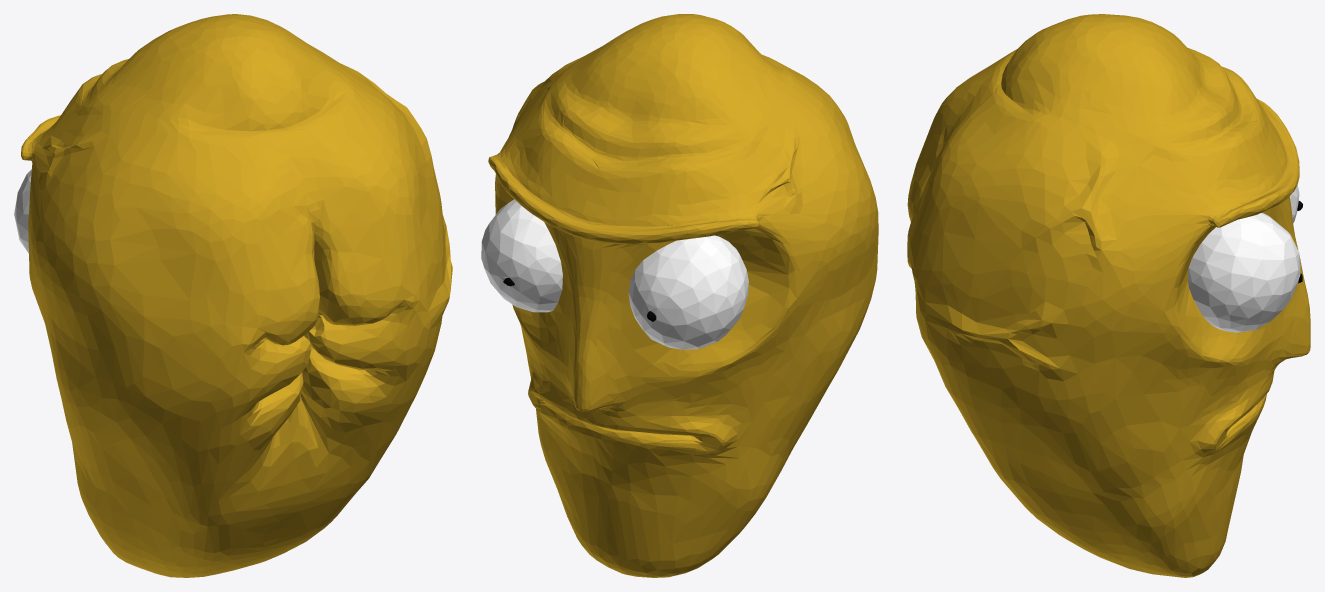
File: cromulon.dae
The picture shows the model from 3 angles, left to right: view 1: azimuth 30°, elevation 25°; view 2: azimuth 150°, elevation 25°; view 3: azimuth 270°, elevation 25°; orthographic projection. The views are drawn at different scales.
Visible parts, largest first — view 1: ShowMe; view 2: ShowMe; view 3: ShowMe.
Part boxes in pixels (<box>): ShowMe: <box>14,14,452,577</box>; ShowMe: <box>481,14,878,577</box>; ShowMe: <box>907,14,1310,577</box>.
Size of the model in its own units: 0.1181 by 0.1163 by 0.1716.
